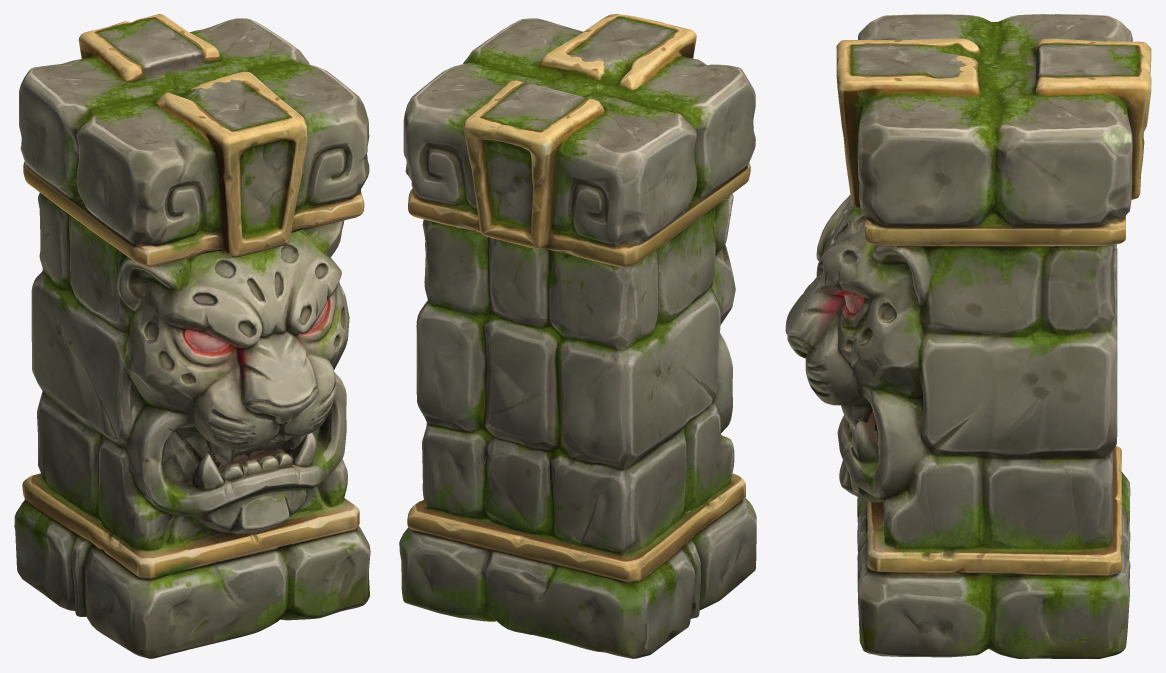
Rendered from obs-totem.glb.
The picture shows the model from 3 angles, left to right: view 1: azimuth 30°, elevation 25°; view 2: azimuth 150°, elevation 25°; view 3: azimuth 270°, elevation 25°; orthographic projection. The views are drawn at different scales.
Visible parts, largest first — view 1: Mesh_0; view 2: Mesh_0; view 3: Mesh_0.
Part boxes in pixels (box(x1,y1,x2,y2)): Mesh_0: box(14, 14, 370, 658); Mesh_0: box(399, 14, 756, 658); Mesh_0: box(785, 14, 1151, 658).
Size of the model in its own units: 0.9489 by 1.9 by 1.16.
1 material, 1 textured.
